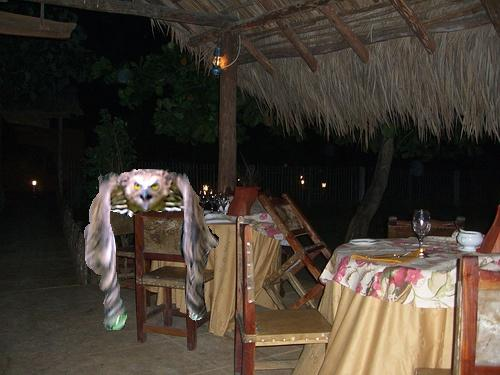tampered: (85, 169, 219, 330)
